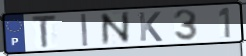1: (217, 6, 233, 40)
3: (172, 8, 200, 43)
I: (79, 13, 90, 48)
K: (136, 11, 164, 43)
N: (98, 10, 134, 48)
T: (31, 14, 59, 50)
